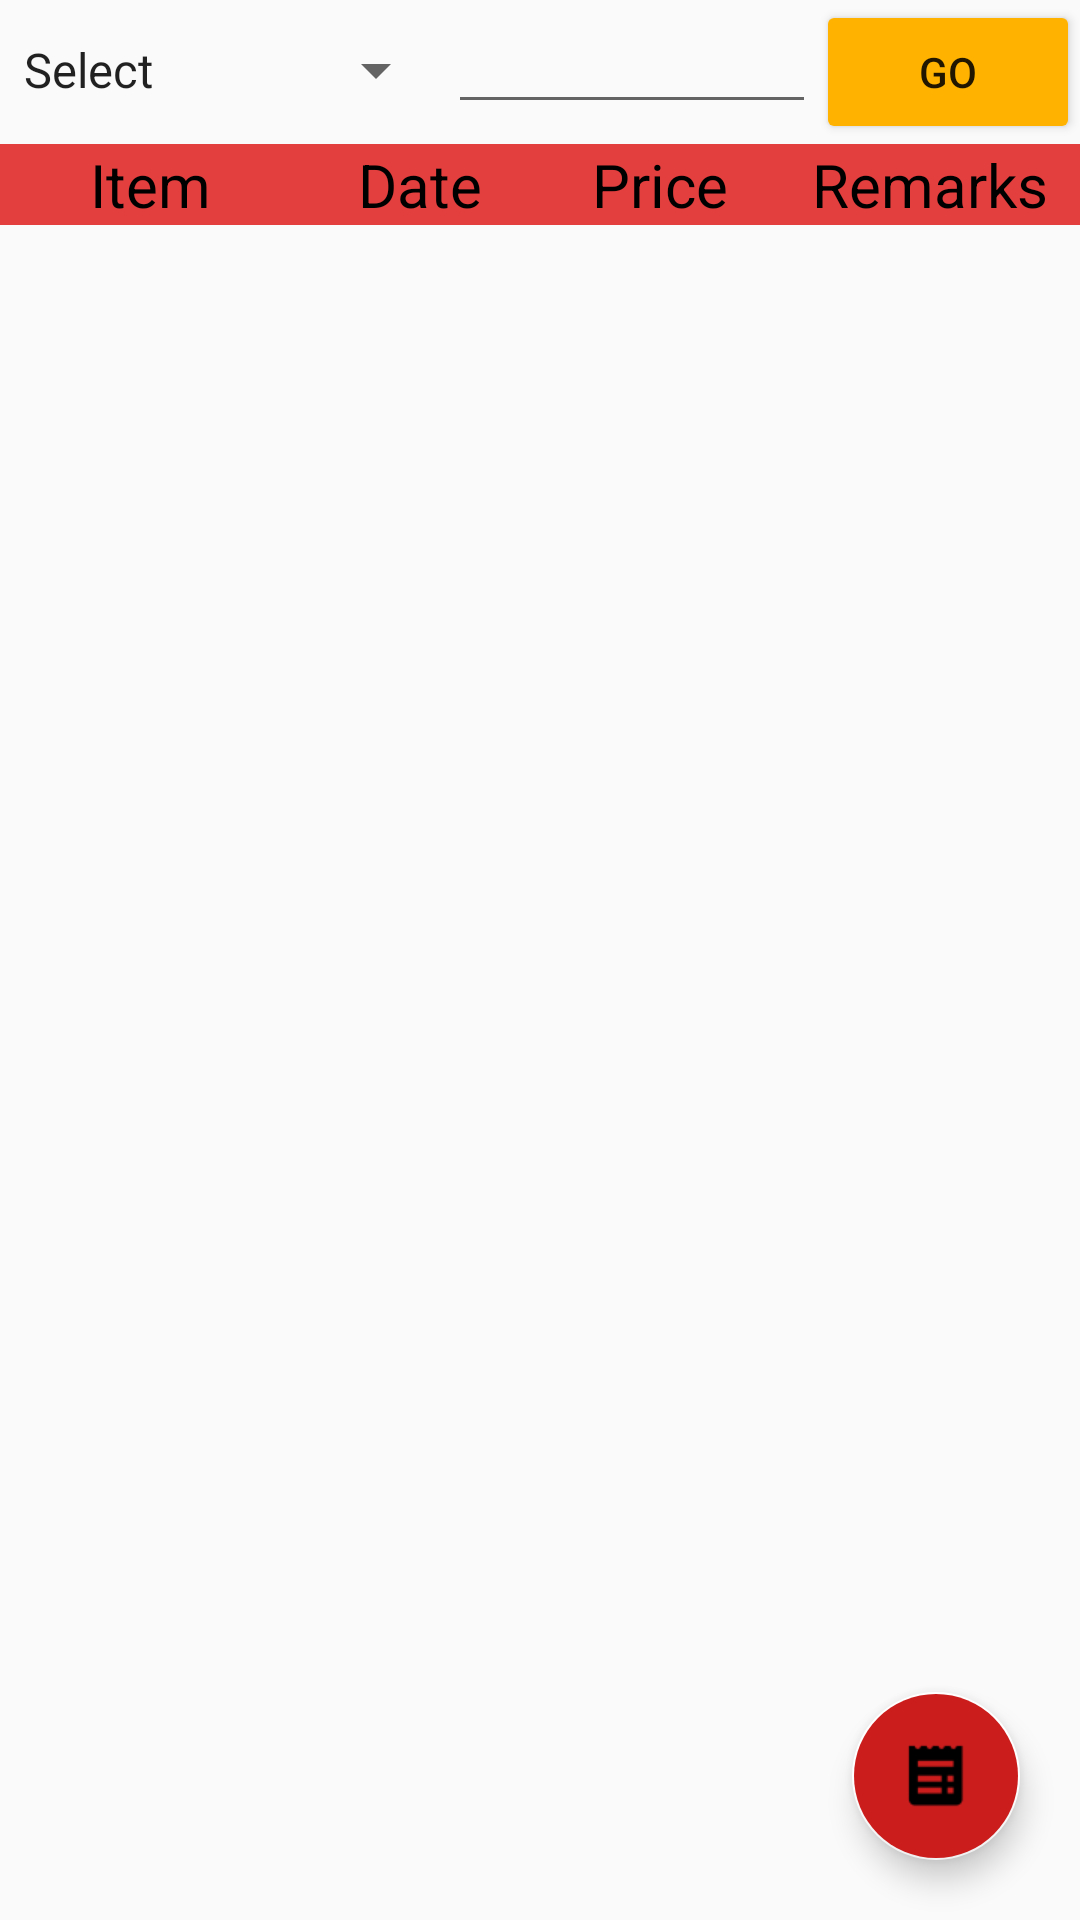

Icon bounding boxes for this 1080px x 1920px phone screenshot, format detection(x1, y1, x2, y2):
bill: detection(854, 1694, 1018, 1858)
